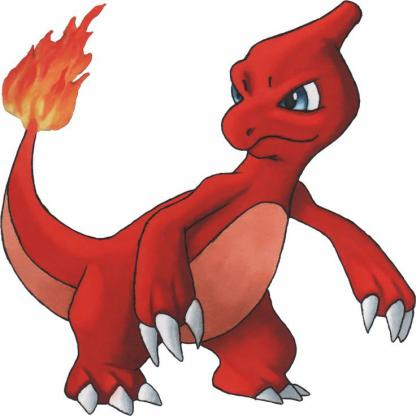Charmeleon: (1, 4, 416, 416)
